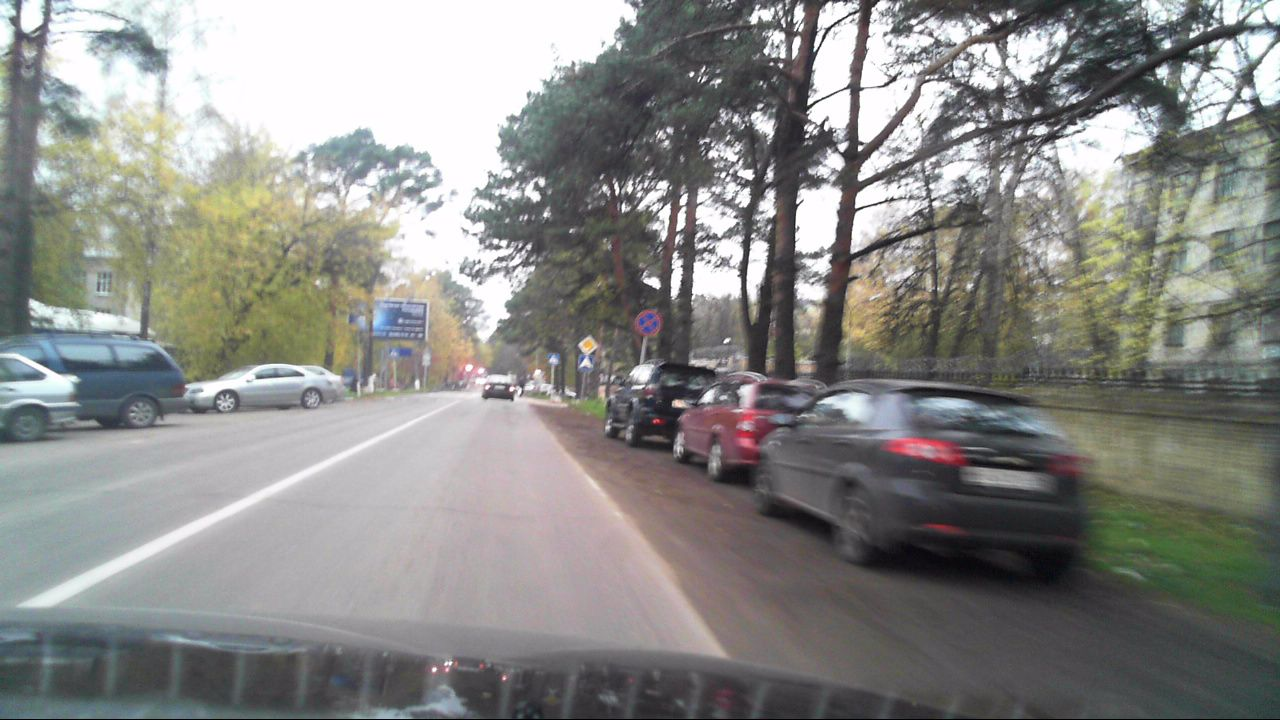No Parking: (634, 309, 662, 336)
